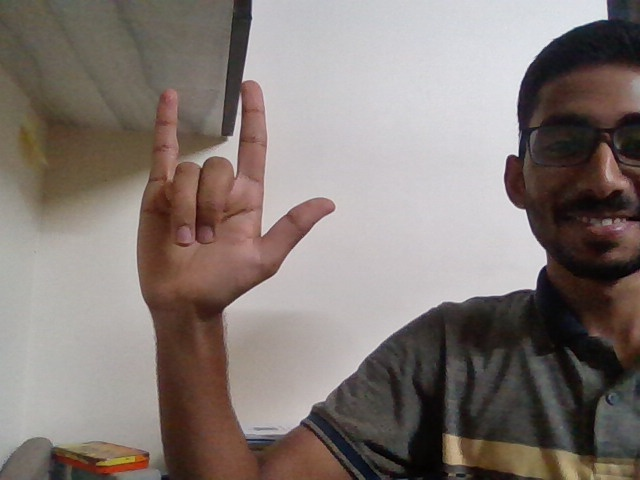Enjoy: (115, 58, 358, 358)
